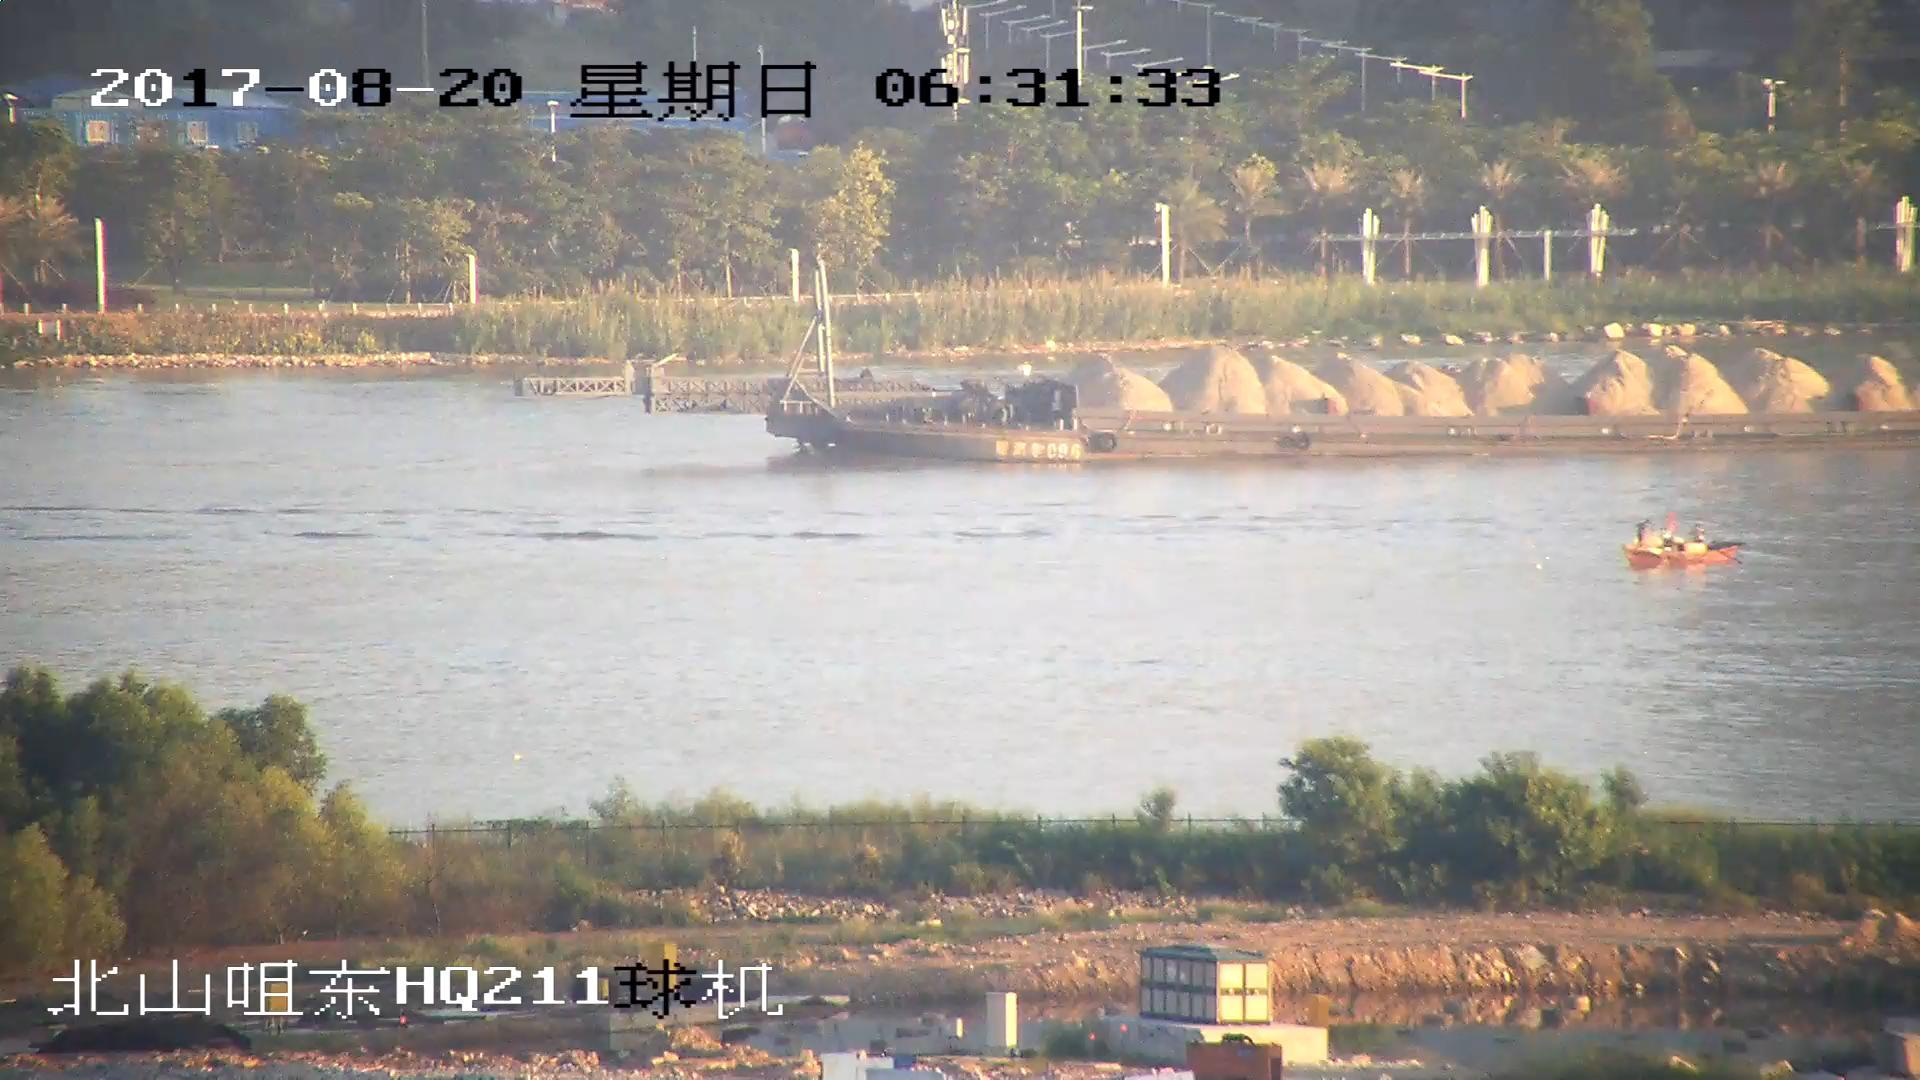Ship: (527, 248, 1920, 471), (1625, 512, 1750, 571)
